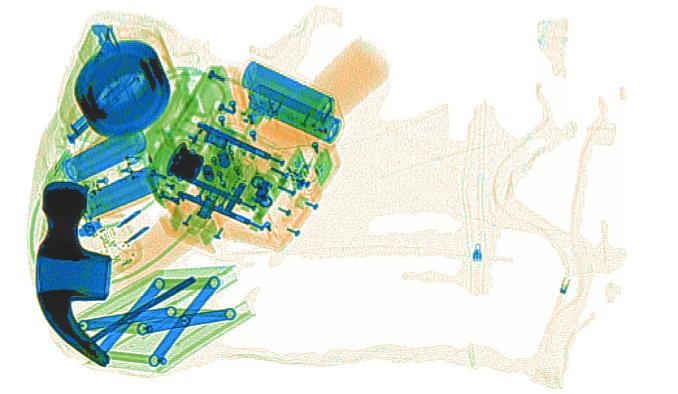battery: (57, 124, 167, 222), (236, 59, 344, 144)
